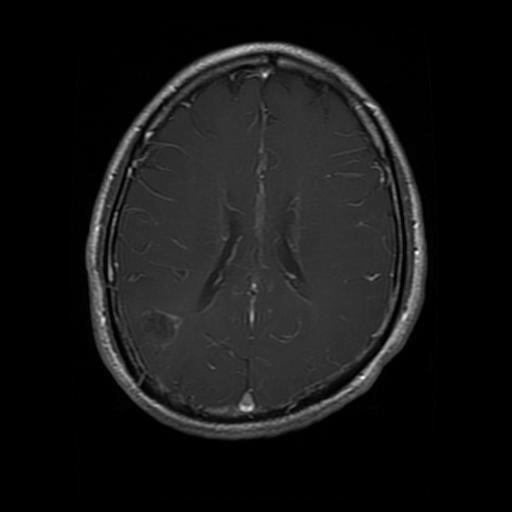Tumour-Glioma: (141, 299, 209, 358)
